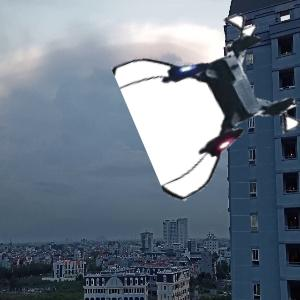drone: (133, 20, 297, 184)
